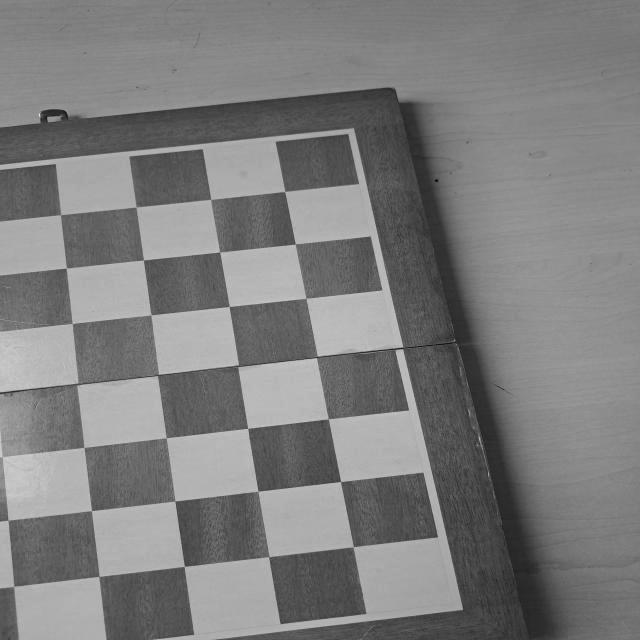chess-table-corners: (429, 587, 476, 620), (330, 124, 366, 146)
